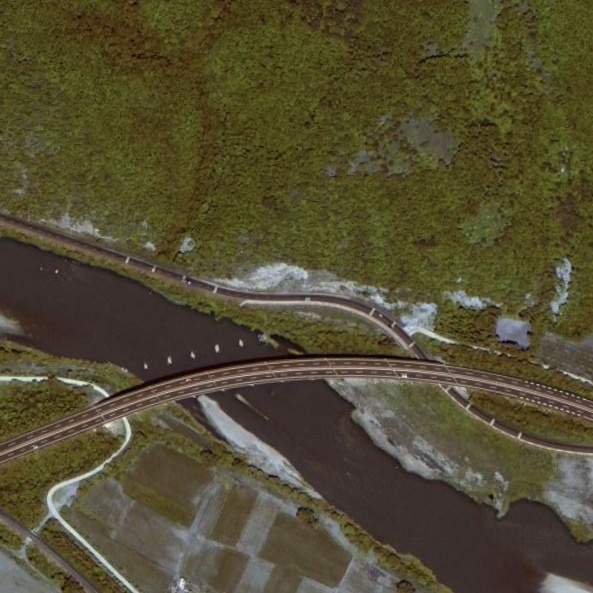slope: (213, 257, 436, 331)
